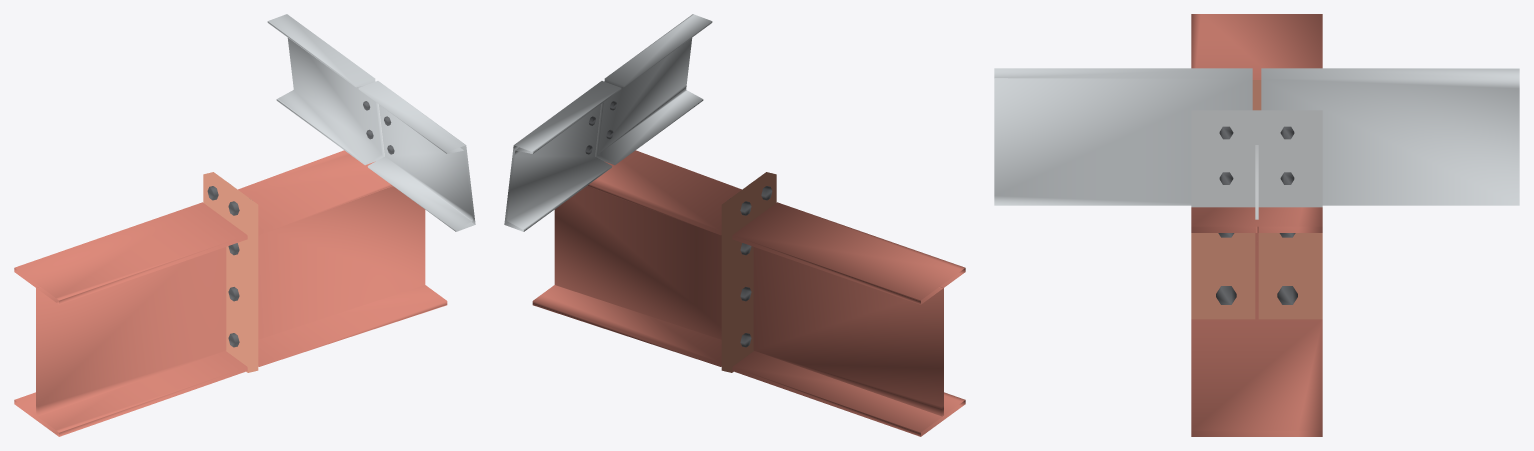
File: splice1607.glb
The picture shows the model from 3 angles, left to right: view 1: azimuth 30°, elevation 25°; view 2: azimuth 150°, elevation 25°; view 3: azimuth 270°, elevation 25°; orthographic projection. The views are drawn at different scales.
Visible parts, largest first — view 1: frame, purlin, plate, bolt; view 2: frame, purlin, plate, bolt; view 3: purlin, frame, cleat, plate, bolt.
Part boxes in pixels (x1,y1,x2,y2): frame: [14, 150, 447, 436]; purlin: [267, 14, 475, 231]; plate: [203, 172, 258, 372]; bolt: [207, 101, 394, 347]; frame: [532, 150, 965, 436]; purlin: [504, 14, 712, 231]; plate: [721, 172, 776, 372]; bolt: [585, 101, 772, 347]; purlin: [994, 68, 1519, 205]; frame: [1191, 14, 1322, 436]; cleat: [1191, 110, 1322, 219]; plate: [1191, 80, 1322, 319]; bolt: [1216, 126, 1297, 304].
Bounding box in the file's own units: 1.5 × 0.953 × 1.2.
